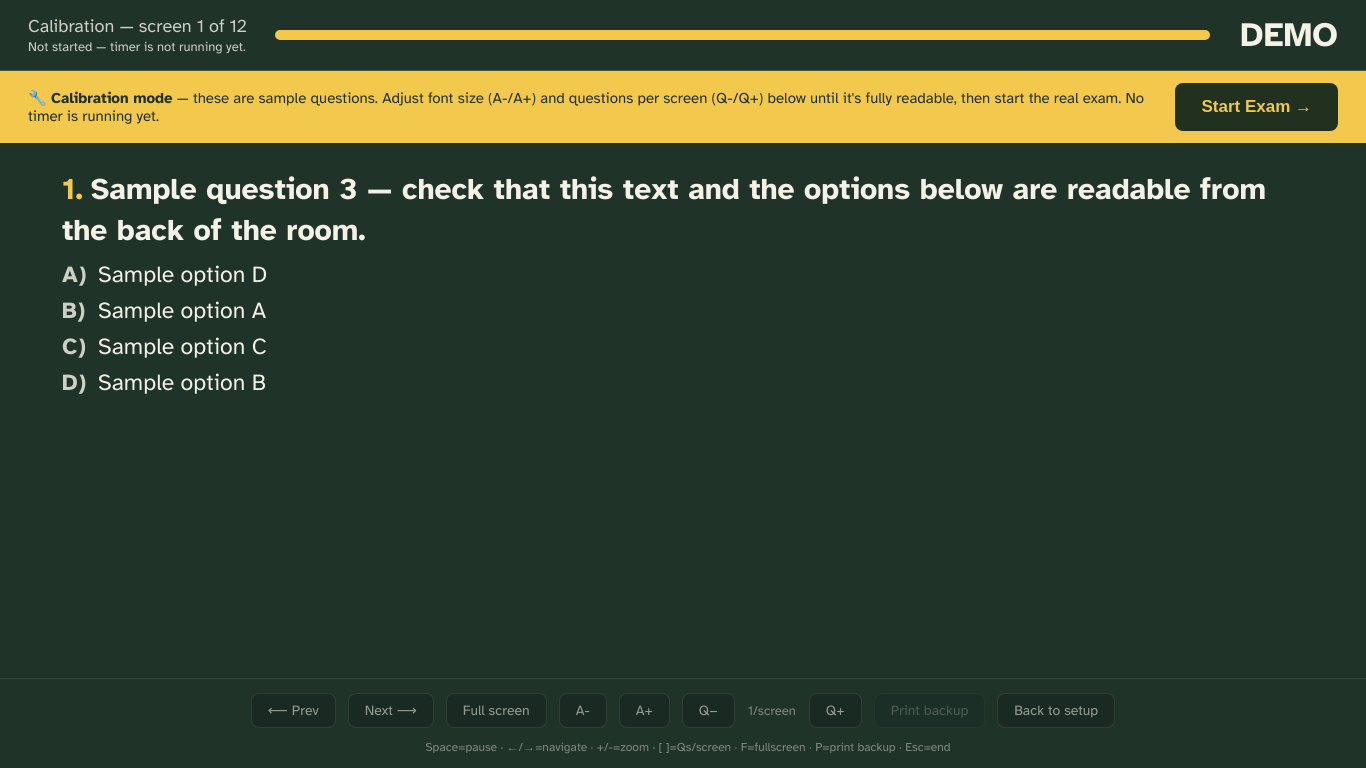
SlideshowScreen (real exam timer — Milestone 6a) › auto-advances to the next slide when a slide's countdown reaches zero
Click the button "Start Exam →".
click(1257, 107)  # box [1176,83,1338,131]
Wait 3000 ms
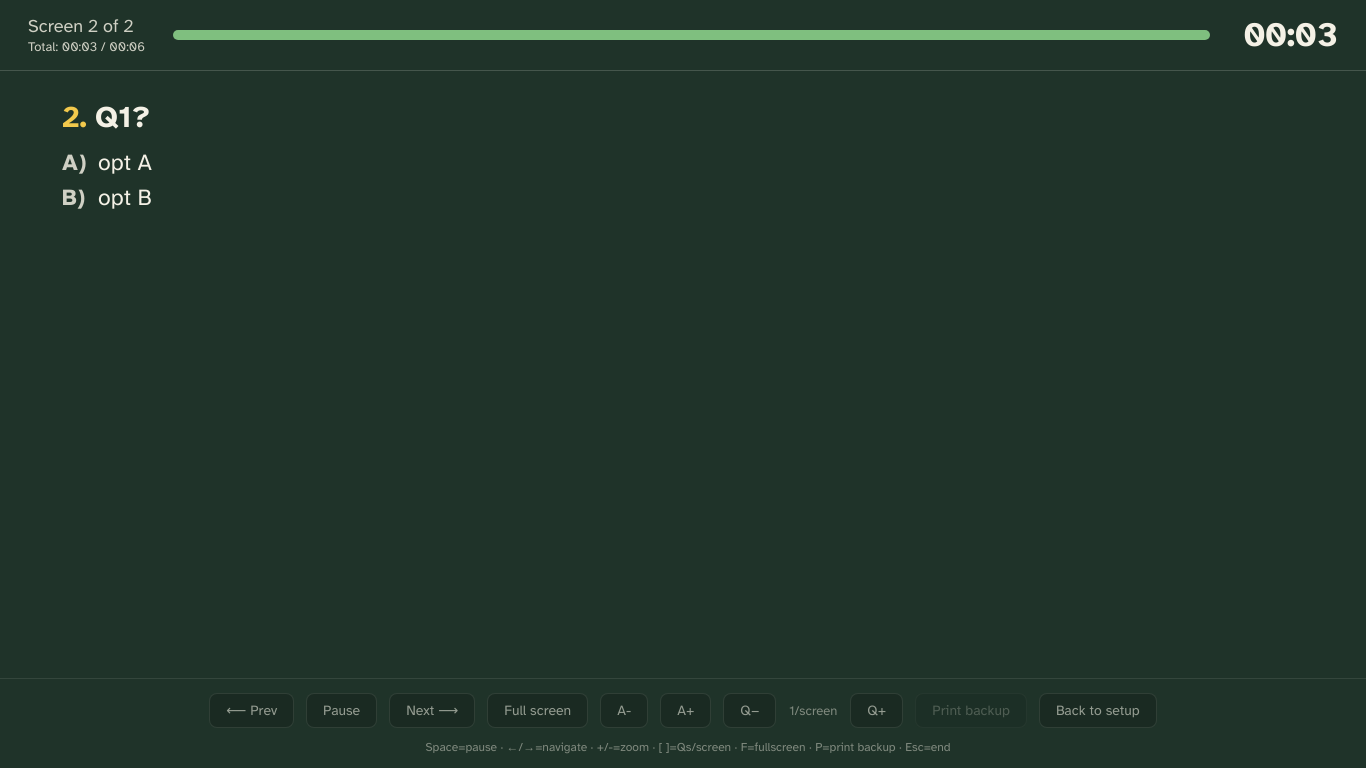
Expected: the text "Screen 2 of 2" is shown, [28,15,145,37]
Expected: the text "00:03" is shown, [1238,14,1338,56]
